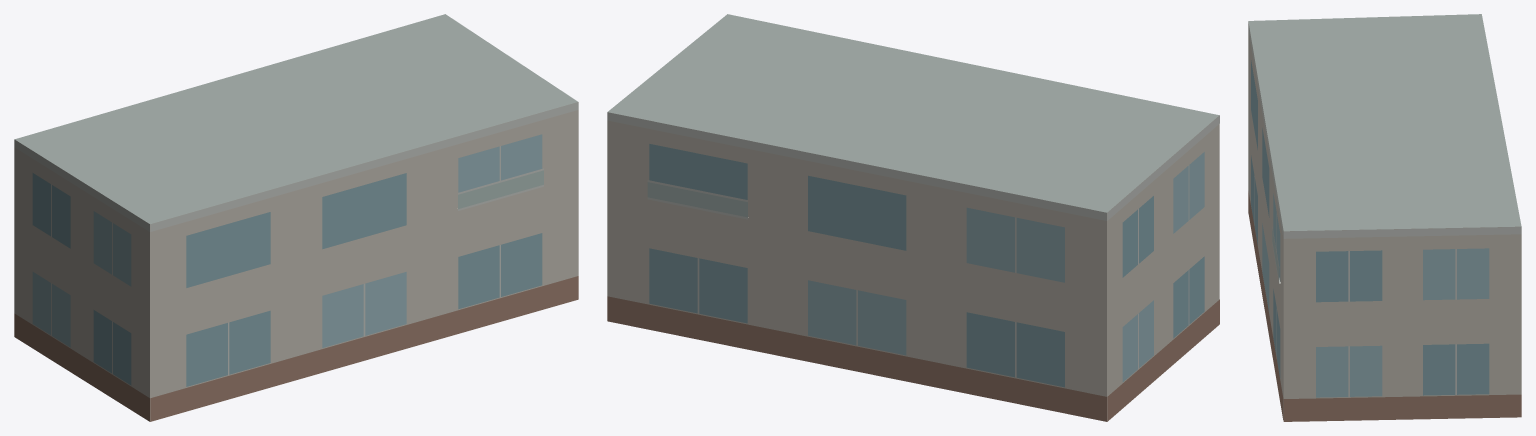
File: survey-upis-32804749.glb
3 renders of one model, left to right at view 1: azimuth 30°, elevation 25°; view 2: azimuth 150°, elevation 25°; view 3: azimuth 270°, elevation 25°, orthographic. The views are drawn at different scales.
Visible parts, largest first — view 1: survey-upis-32804749.tmp; view 2: survey-upis-32804749.tmp; view 3: survey-upis-32804749.tmp.
Part boxes in pixels (left/top/right/bottom): survey-upis-32804749.tmp: left=14, top=14, right=578, bottom=421; survey-upis-32804749.tmp: left=607, top=14, right=1219, bottom=421; survey-upis-32804749.tmp: left=1248, top=14, right=1521, bottom=421.
Size of the model in its own units: 14.92 by 6.1 by 7.94.
